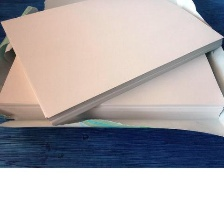book: (0, 0, 224, 127), (0, 43, 224, 126)
